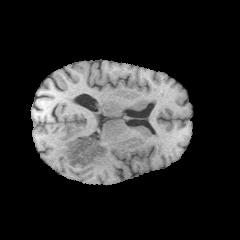glioma: (54, 128, 111, 170)
